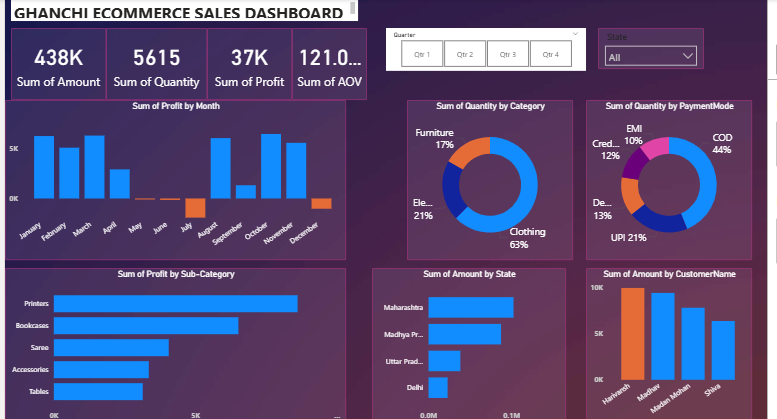

Layout of this report page (visuals, bound fields, positions):
{"tool":"powerbi","page":{"name":"Page 1","canvas":[1280,720],"ordinal":0},"visuals":[{"type":"textbox","box":[10.1,0,582.9,37],"z":0},{"type":"columnChart","fields":{"Category":["Orders (2).Order Date.Variation.Date Hierarchy.Month"],"Y":["Details.Profit"]},"box":[0,169.7,572.8,268.8],"z":1000},{"type":"barChart","fields":{"Category":["Details.Sub-Category"],"Y":["Details.Profit"]},"box":[0,451.9,572.8,268.8],"z":2000},{"type":"donutChart","fields":{"Category":["Details.Category"],"Y":["Details.Quantity"]},"box":[675.3,169.7,278.8,268.8],"z":3000},{"type":"donutChart","fields":{"Category":["Details.PaymentMode"],"Y":["Details.Quantity"]},"box":[976,169.7,278.8,268.8],"z":4000},{"type":"card","fields":{"Values":["Details.Amount"]},"box":[10.1,48.7,159.6,120.9],"z":5000},{"type":"card","fields":{"Values":["Details.Quantity"]},"box":[169.7,48.7,169.7,120.9],"z":6000},{"type":"card","fields":{"Values":["Details.Profit"]},"box":[339.3,48.7,142.8,120.9],"z":7000},{"type":"card","fields":{"Values":["Details.AOV"]},"box":[482.1,48.7,126,120.9],"z":8000},{"type":"barChart","fields":{"Category":["Orders (2).State"],"Y":["Details.Amount"]},"box":[616.5,451.9,325.9,268.8],"z":9000},{"type":"columnChart","fields":{"Category":["Orders (2).CustomerName"],"Y":["Details.Amount"]},"box":[976,451.9,278.8,268.8],"z":10000},{"type":"slicer","fields":{"Values":["Orders (2).Order Date.Variation.Date Hierarchy.Quarter"]},"box":[640,48.7,336,72.2],"z":11000},{"type":"slicer","fields":{"Values":["Orders (2).State"]},"box":[996.1,48.7,178.1,68.9],"z":11001}]}

Visuals, with their boxes on the page's 1280x720 design canvas (x1, y1, x2, y2). These are canvas units, not pixel positions in the 777x419 screenshot, which may show the page scaled, cropped or inside an application window:
textbox: <region>10, 0, 593, 37</region>
columnChart - Orders (2).Order Date.Variation.Date Hierarchy.Month x Details.Profit: <region>0, 170, 573, 438</region>
barChart - Details.Sub-Category x Details.Profit: <region>0, 452, 573, 721</region>
donutChart - Details.Category x Details.Quantity: <region>675, 170, 954, 438</region>
donutChart - Details.PaymentMode x Details.Quantity: <region>976, 170, 1255, 438</region>
card - Details.Amount: <region>10, 49, 170, 170</region>
card - Details.Quantity: <region>170, 49, 339, 170</region>
card - Details.Profit: <region>339, 49, 482, 170</region>
card - Details.AOV: <region>482, 49, 608, 170</region>
barChart - Orders (2).State x Details.Amount: <region>616, 452, 942, 721</region>
columnChart - Orders (2).CustomerName x Details.Amount: <region>976, 452, 1255, 721</region>
slicer - Orders (2).Order Date.Variation.Date Hierarchy.Quarter: <region>640, 49, 976, 121</region>
slicer - Orders (2).State: <region>996, 49, 1174, 118</region>
